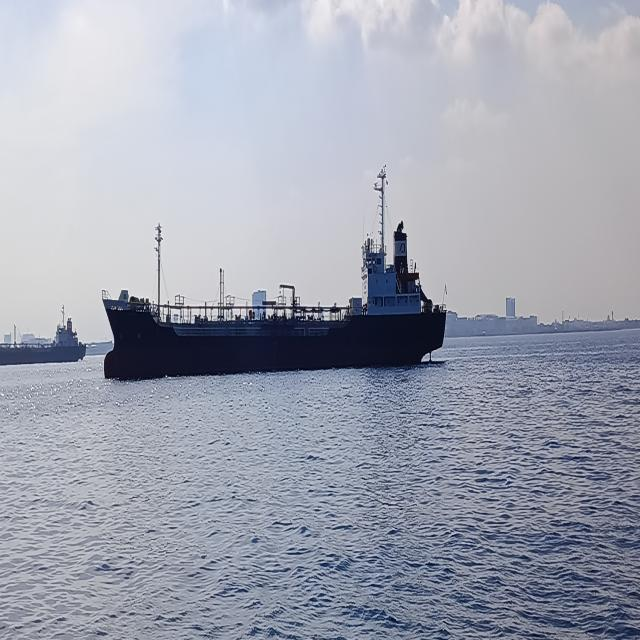PassengerShip: (79, 168, 480, 421)
